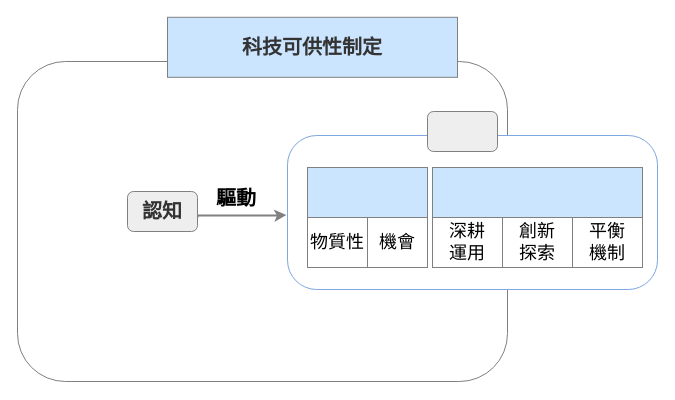
This 675x400 diagram has some shape labels left out. The shapes that lost their labels are listed below. From the top down, each one's centre as x and y in pixels, then its label:
At pixel 462 131: "行動".
At pixel 367 192: "探索 可供性".
At pixel 537 192: "雙元 可供性實現".
